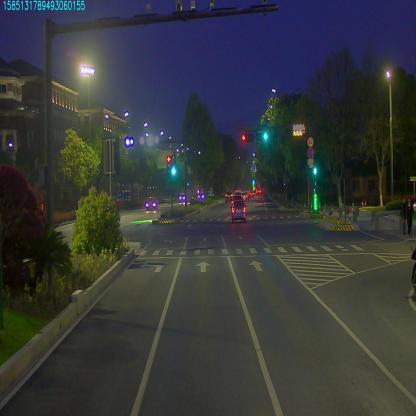traffic-light: (254, 132, 269, 143), (242, 134, 254, 143)
